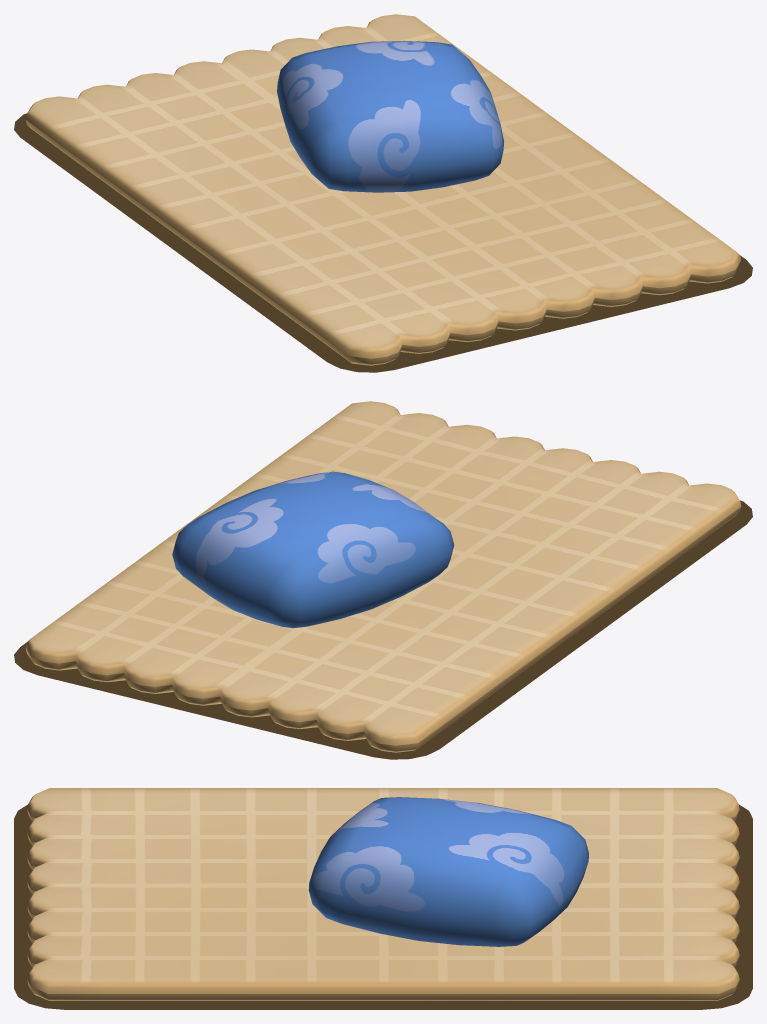
The model's file is JpBed01.fbx.
The picture shows the model from 3 angles, top to bottom: view 1: azimuth 30°, elevation 25°; view 2: azimuth 150°, elevation 25°; view 3: azimuth 270°, elevation 25°; orthographic projection. The views are drawn at different scales.
Visible parts, largest first — view 1: polySurface4, polySurface1, polySurface3; view 2: polySurface4, polySurface1, polySurface3; view 3: polySurface4, polySurface1, polySurface3.
Boxes of the visible parts, <box> form: polySurface4: <box>25,14,741,365</box>; polySurface1: <box>277,40,503,192</box>; polySurface3: <box>14,113,752,372</box>; polySurface4: <box>25,401,741,752</box>; polySurface1: <box>172,471,454,628</box>; polySurface3: <box>14,500,752,759</box>; polySurface4: <box>27,788,739,1000</box>; polySurface1: <box>308,797,588,946</box>; polySurface3: <box>14,804,752,1009</box>.
Size of the model in its own units: 218 by 46.95 by 321.
